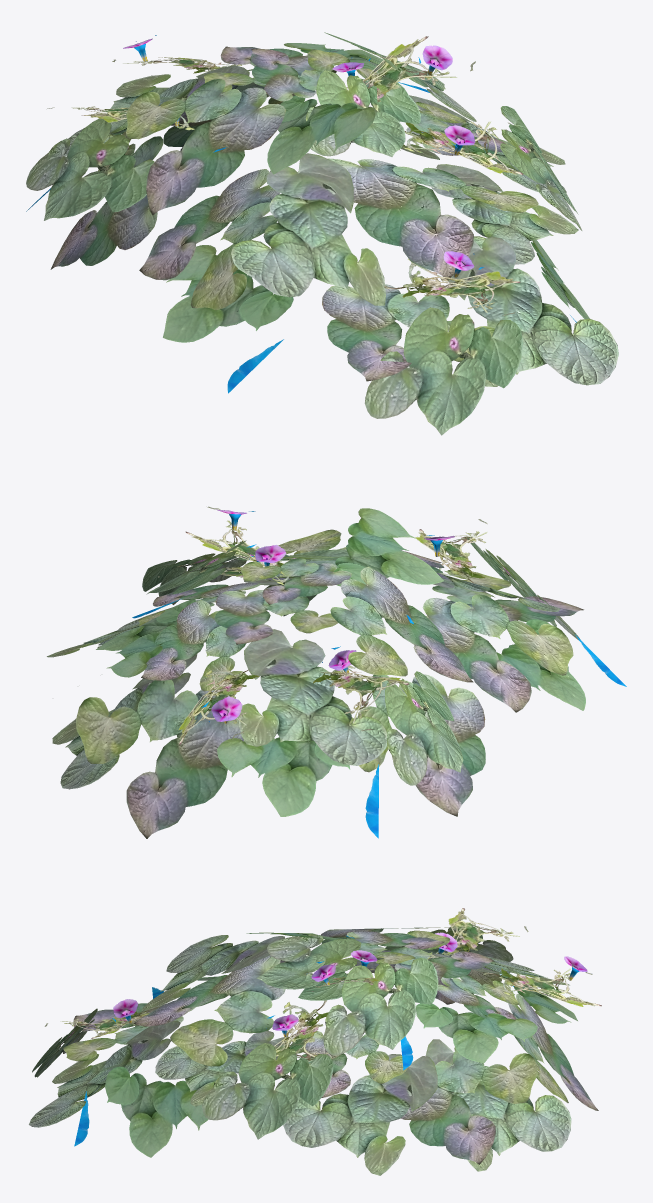
Rendered from MorningGlory1Abloomer.fbx.
The picture shows the model from 3 angles, top to bottom: view 1: azimuth 30°, elevation 25°; view 2: azimuth 150°, elevation 25°; view 3: azimuth 270°, elevation 25°; orthographic projection. The views are drawn at different scales.
Visible parts, largest first — view 1: MorningGlory1Abloomer; view 2: MorningGlory1Abloomer; view 3: MorningGlory1Abloomer.
Part boxes in pixels (x1,y1,x2,y2): MorningGlory1Abloomer: (26, 32, 618, 435); MorningGlory1Abloomer: (47, 506, 626, 838); MorningGlory1Abloomer: (29, 908, 601, 1175).
Size of the model in its own units: 131 by 59.28 by 166.
